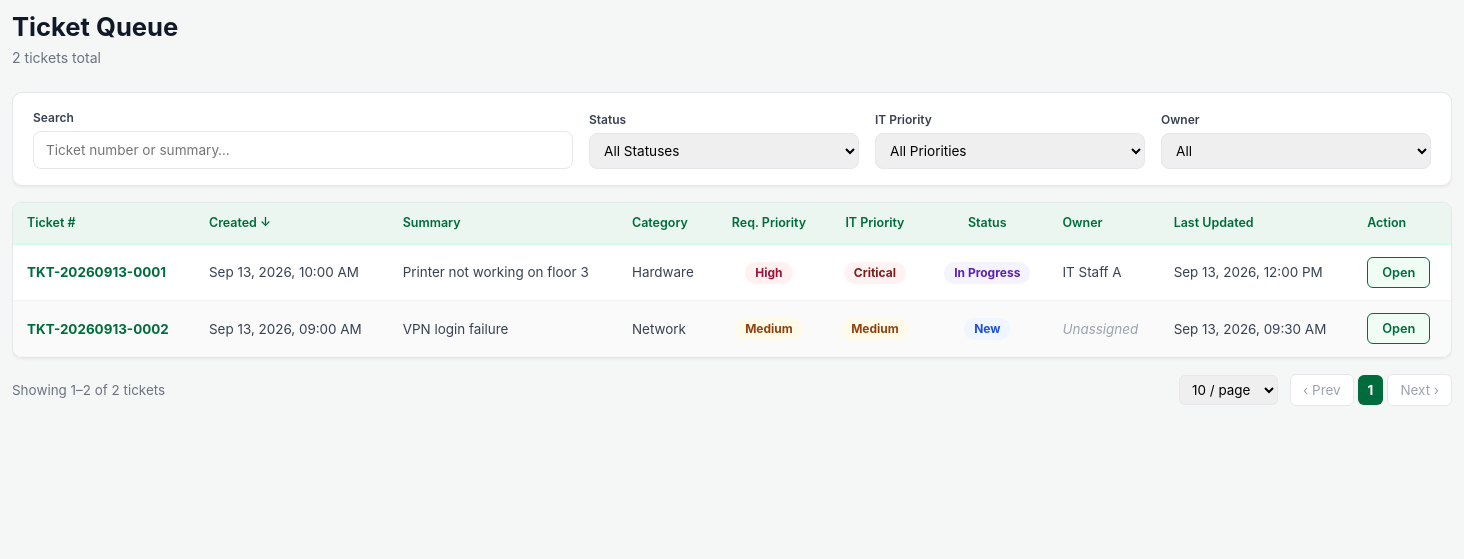
Scenario: UI-09 — StaffTicketQueue search filters the list › shows no-results state when search returns empty tickets
Expected: the text "TKT-20260913-0001" is shown, [13,244,195,301]
In the field with placeholder "Ticket number or summary…": (303, 150) [33,131,573,169], type "xyznotfound"
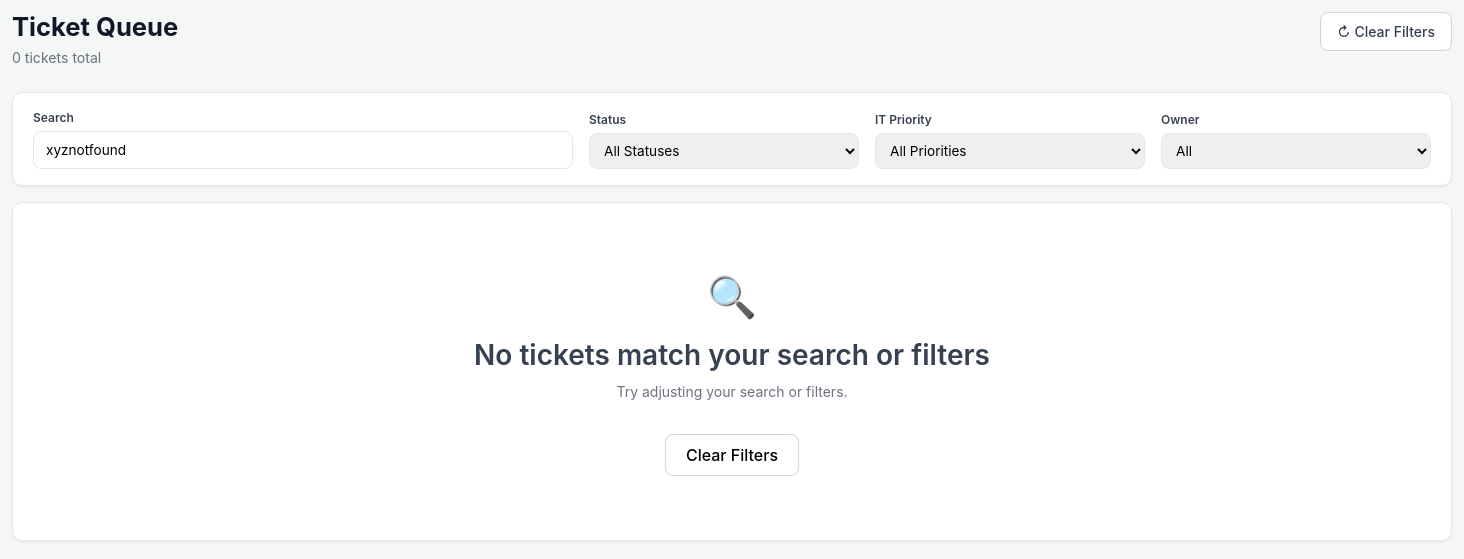
Expected: the heading "No tickets match your search or filters" is shown, [474,338,990,372]
